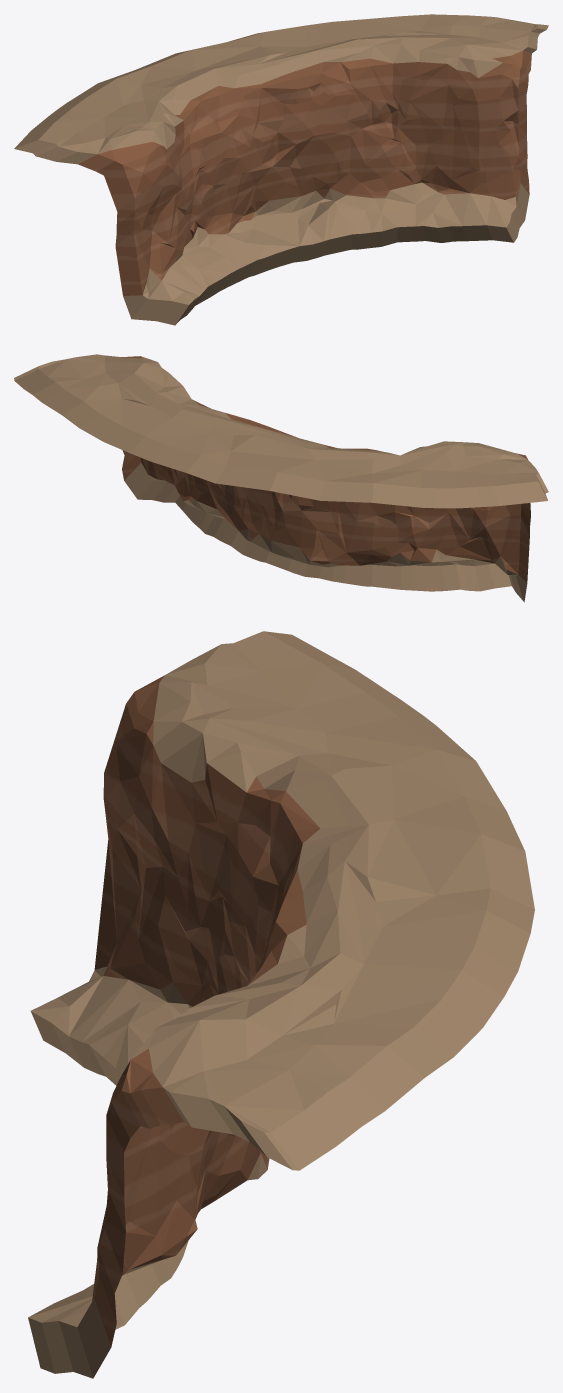
The model's file is SM_Env_Quarry_Wall_Curved_02.glb.
3 views of the same model, one above another, from view 1: azimuth 30°, elevation 25°; view 2: azimuth 150°, elevation 25°; view 3: azimuth 270°, elevation 25° (orthographic). The views are drawn at different scales.
Visible parts, largest first — view 1: SM_Env_Quarry_Wall_Curved_02; view 2: SM_Env_Quarry_Wall_Curved_02; view 3: SM_Env_Quarry_Wall_Curved_02.
Part boxes in pixels (x1=…): SM_Env_Quarry_Wall_Curved_02: x1=14, y1=14, x2=548, y2=325; SM_Env_Quarry_Wall_Curved_02: x1=14, y1=354, x2=548, y2=602; SM_Env_Quarry_Wall_Curved_02: x1=28, y1=631, x2=534, y2=1378.
Bounding box in the file's own units: 16.69 × 5.24 × 6.86.
1 material, 1 textured.
